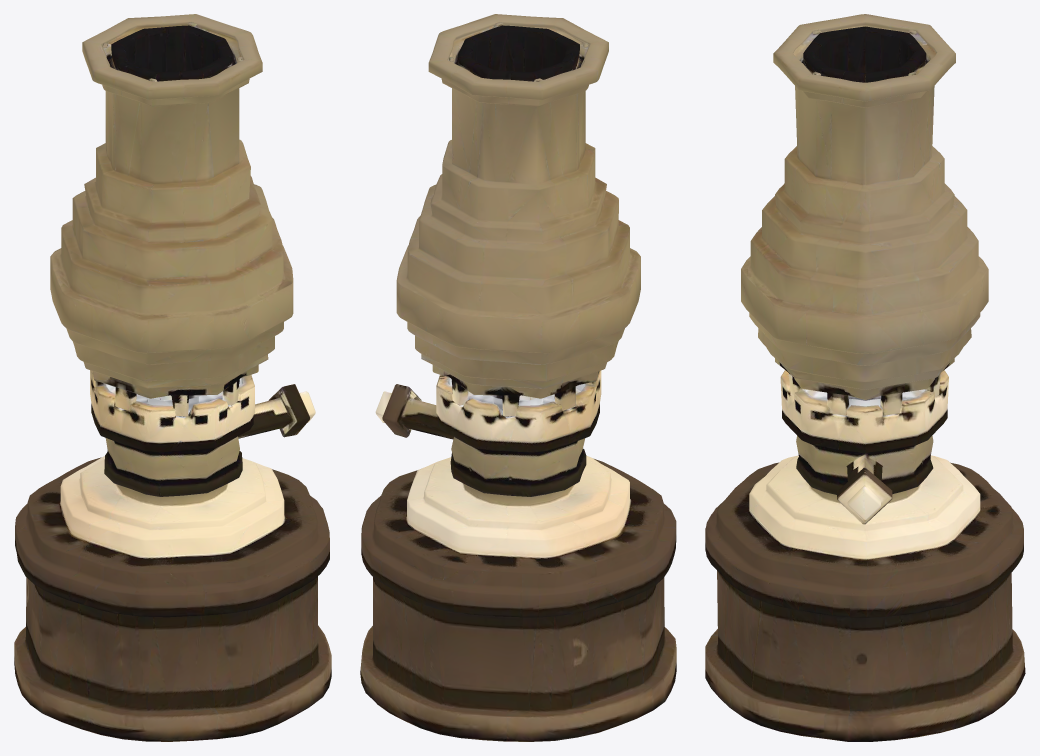
Rendered from oil-lamp.glb.
3 renders of one model, left to right at view 1: azimuth 30°, elevation 25°; view 2: azimuth 150°, elevation 25°; view 3: azimuth 270°, elevation 25°, orthographic.
Size of the model in its own units: 0.8805 by 1.91 by 0.8845.
1 material, 1 textured.
